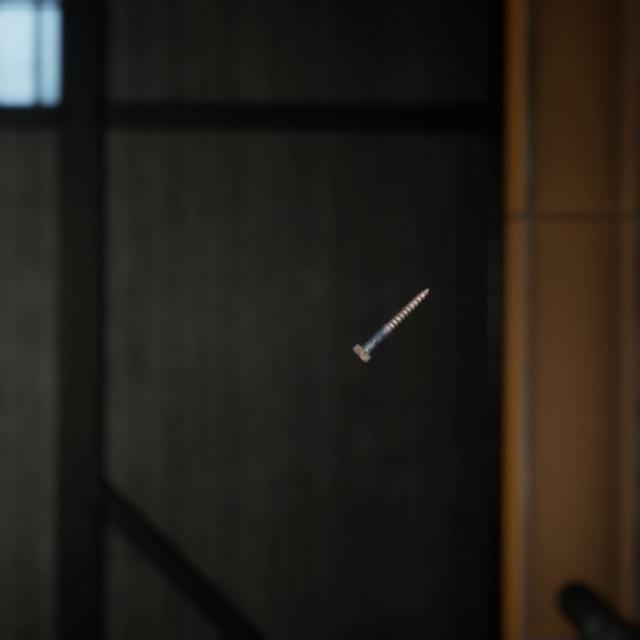bolt: (347, 267, 434, 351)
